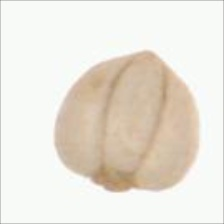L5: (97, 49, 165, 175), (85, 162, 148, 196)
L6: (52, 51, 205, 195)
